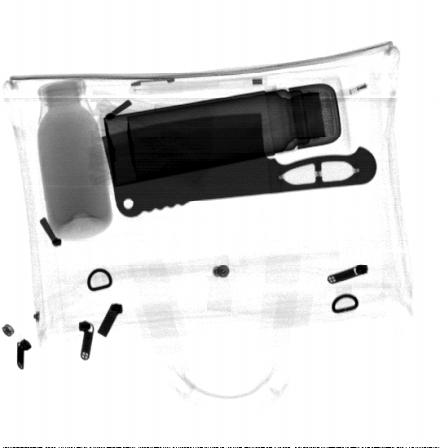Knife: (100, 111, 378, 219)
